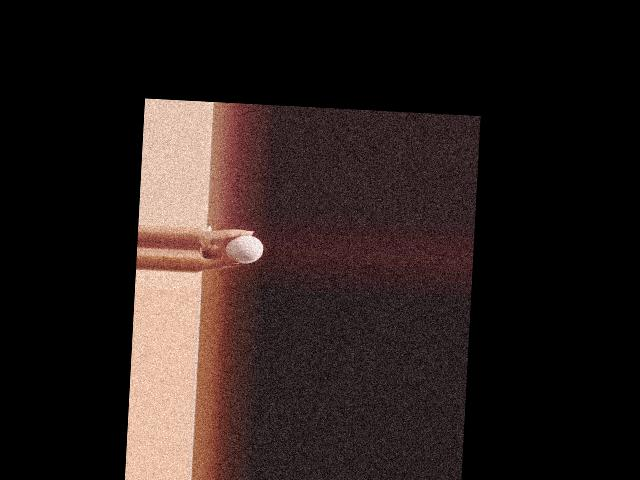egg: (224, 234, 264, 264)
